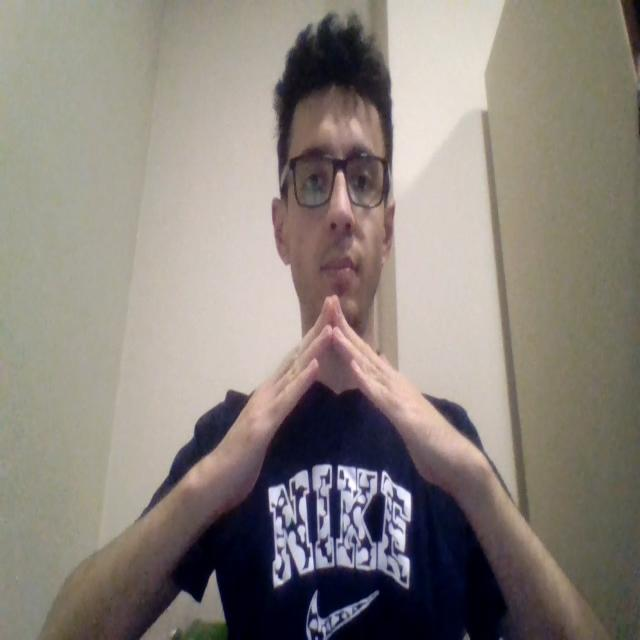house: (225, 295, 457, 494)
